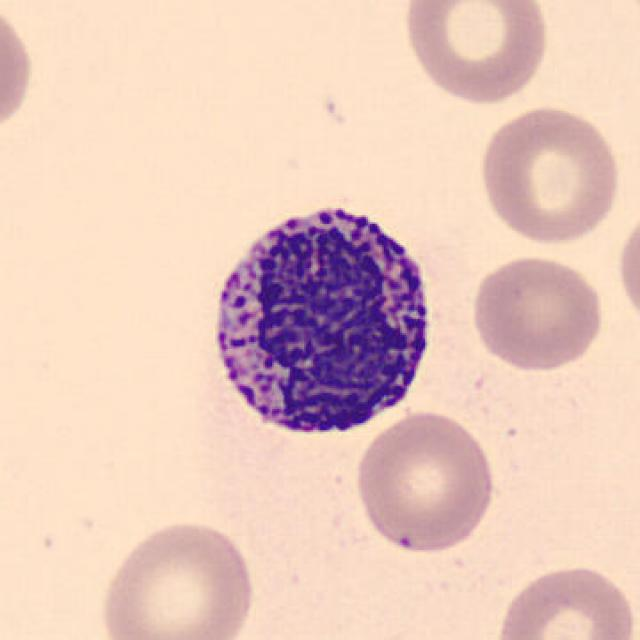Basophil: (196, 189, 444, 453)
RBC: (473, 100, 626, 247), (350, 406, 498, 557), (94, 515, 260, 640), (466, 250, 608, 374), (398, 0, 555, 108), (491, 559, 636, 640), (0, 0, 37, 150), (613, 203, 640, 331), (602, 0, 640, 26)
